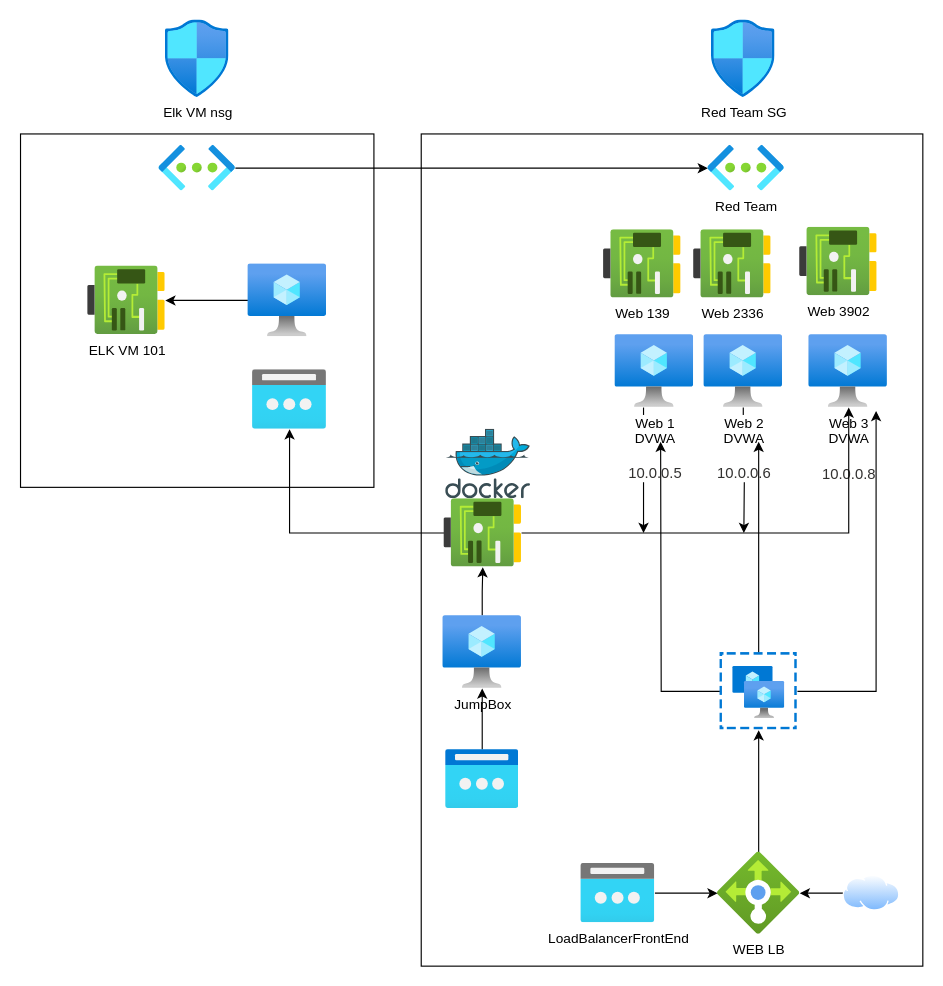
Some shapes in this 943 by 986 pixel diagram are drawn without their labels. Each missing label, with the centre of its shape:
ELK: (196,167)
ELK VM: (286,299)
ELK VM IP 10.1.0.4: (289,399)
internet: (870,893)
JumpBox IP: (481,778)
Web Backend: (758,691)
